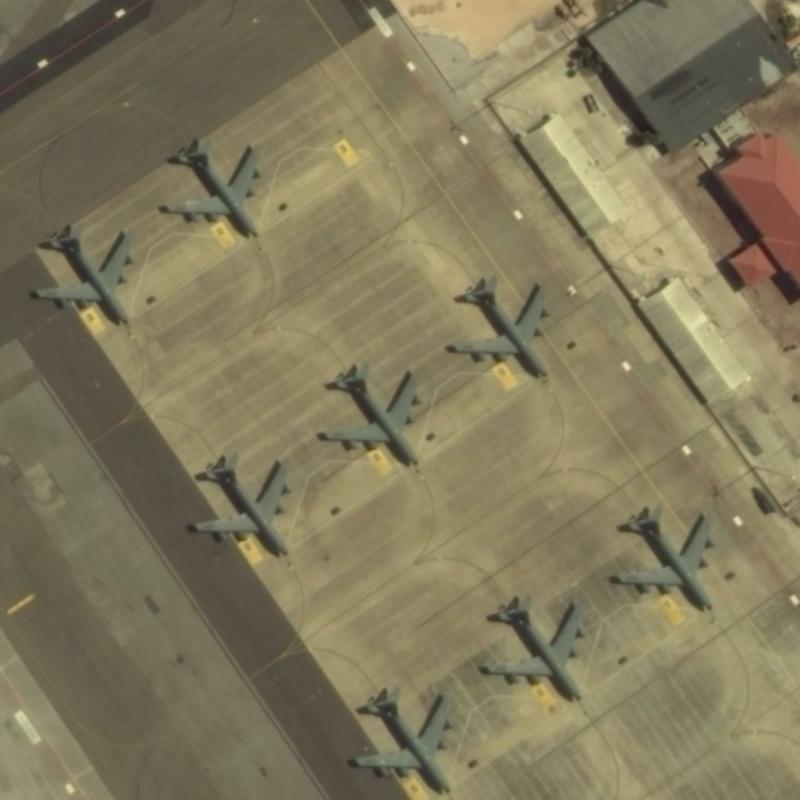A14: (475, 591, 588, 705), (348, 679, 458, 795), (186, 446, 295, 562), (314, 359, 425, 472), (441, 270, 555, 378), (30, 216, 140, 327), (155, 132, 266, 242), (612, 499, 719, 613)
